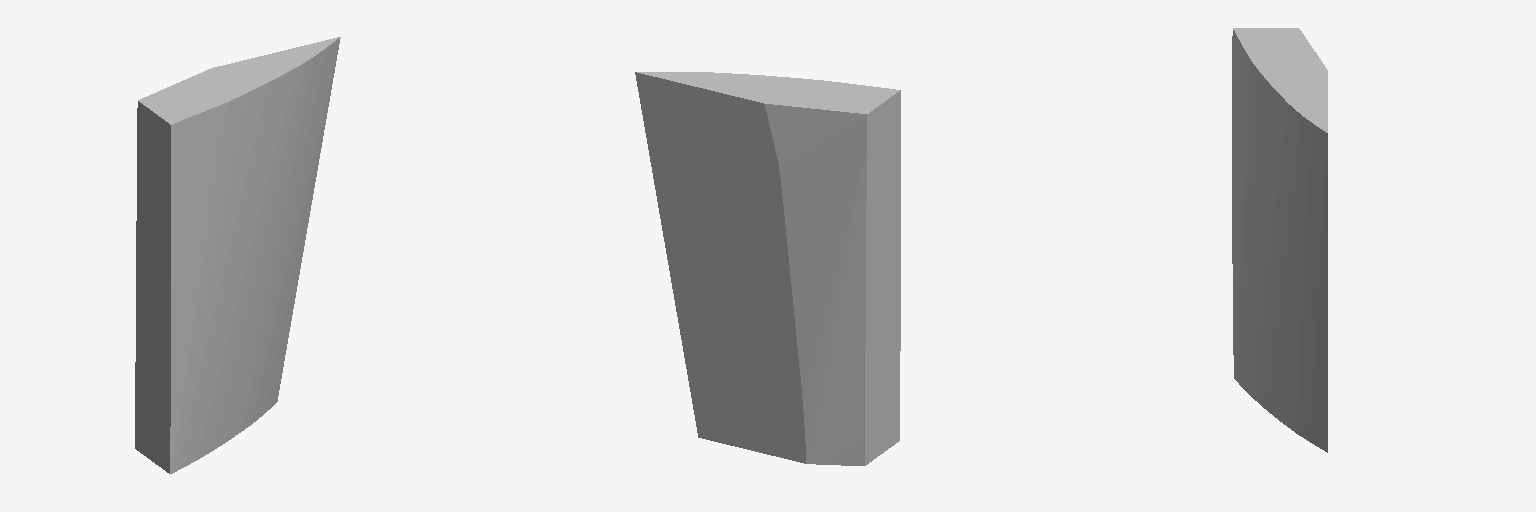
File: phantom-elastrat_collision_483.obj
The picture shows the model from 3 angles: view 1: azimuth 30°, elevation 25°; view 2: azimuth 150°, elevation 25°; view 3: azimuth 270°, elevation 25°; orthographic projection.
Bounding box in the file's own units: 0.0063 × 0.0096 × 0.0024.